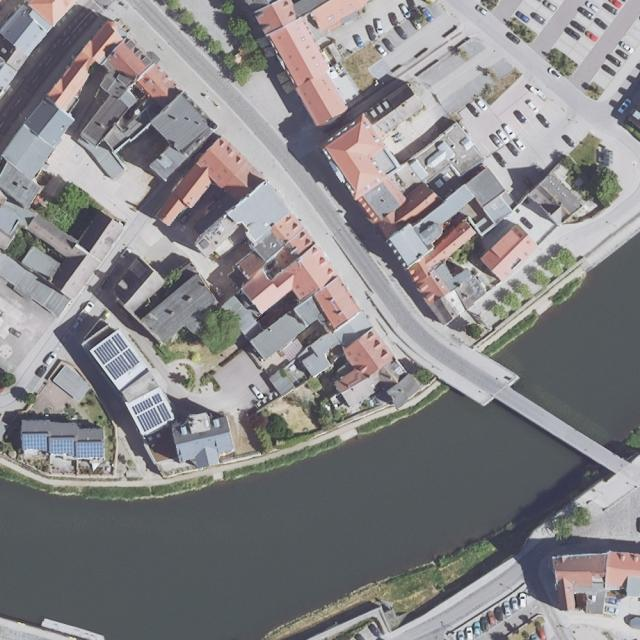PV: (105, 347, 140, 380), (93, 333, 128, 364), (137, 403, 172, 432), (132, 393, 163, 414), (51, 438, 74, 456), (24, 434, 47, 450), (77, 443, 102, 456)
